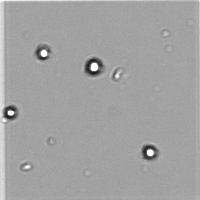Living Cell: (80, 52, 108, 80), (31, 40, 57, 66), (135, 140, 163, 163), (1, 99, 23, 125)
